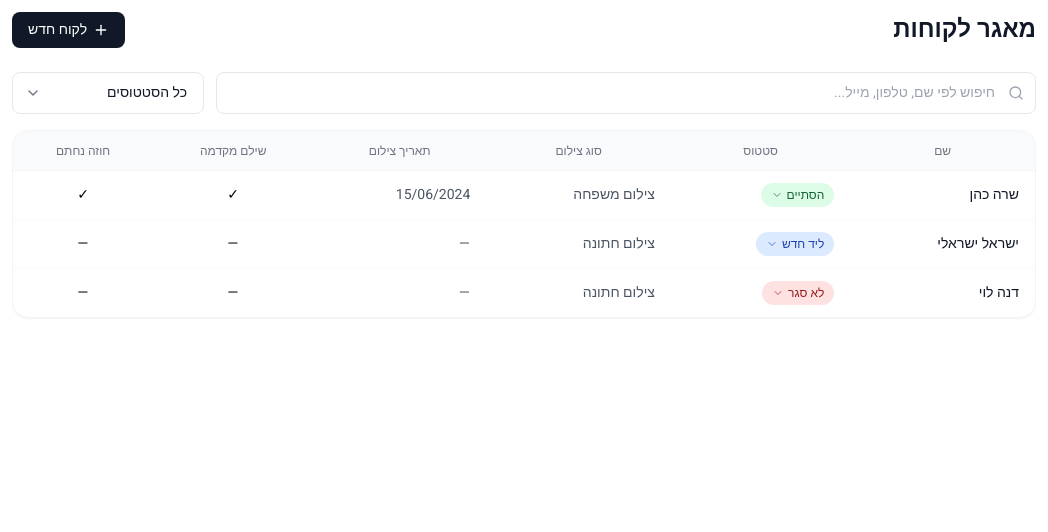
Test: ClientsDatabase › "in progress" filter hides done and didnt_book clients
This screenshot has width=1048, height=532.
Click the button "כל הסטטוסים" at (108, 93), box [12, 72, 204, 114]
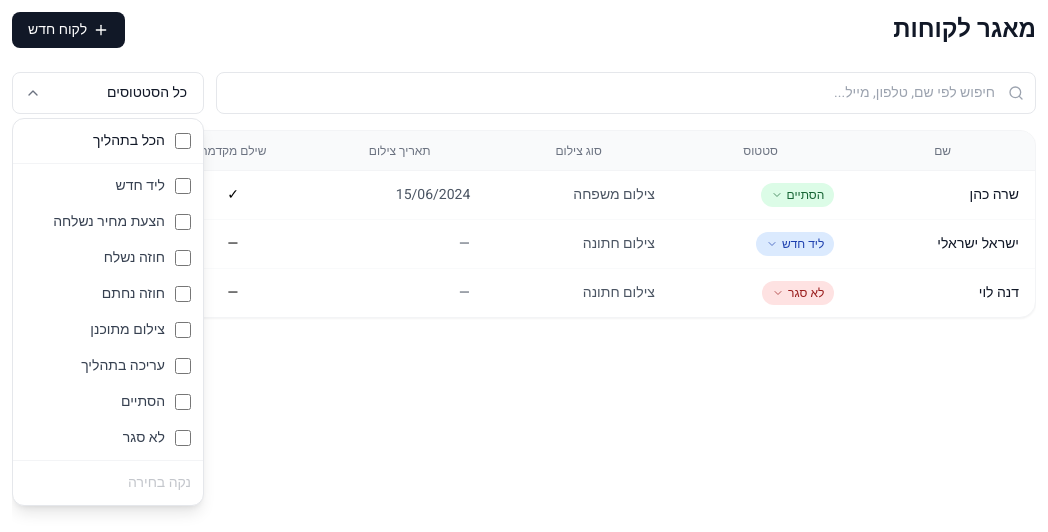
Click the option "הכל בתהליך" at (142, 140), box [93, 130, 191, 151]
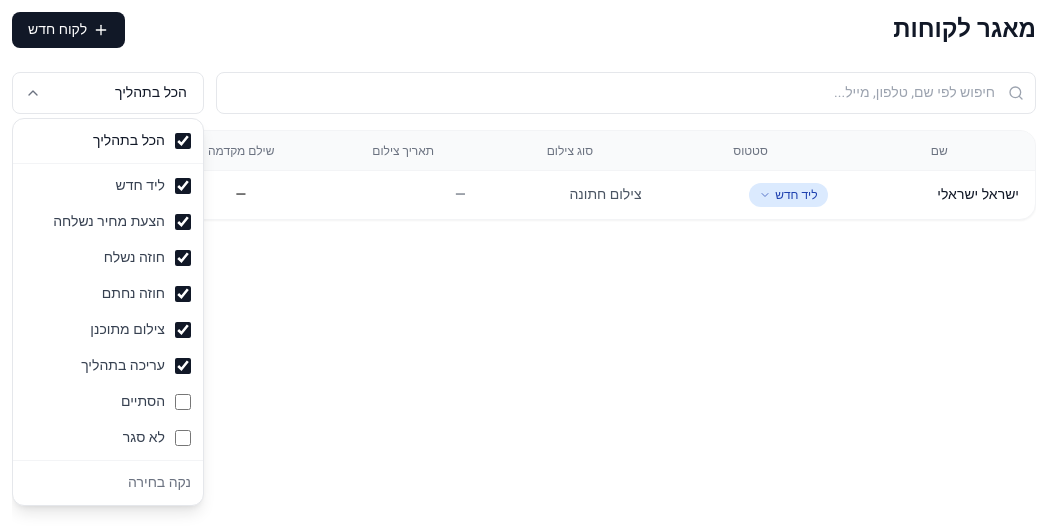
Check: the checkbox labelled "הסתיים" is not checked, box [175, 394, 191, 410]
Check: the checkbox labelled "ליד חדש" is checked
Check: the checkbox labelled "עריכה בתהליך" is checked, box [175, 358, 191, 374]
# unticking one in-progress status leaves the group half-ticked
Click the checkbox labelled "ליד חדש" at (183, 186), box [175, 178, 191, 194]
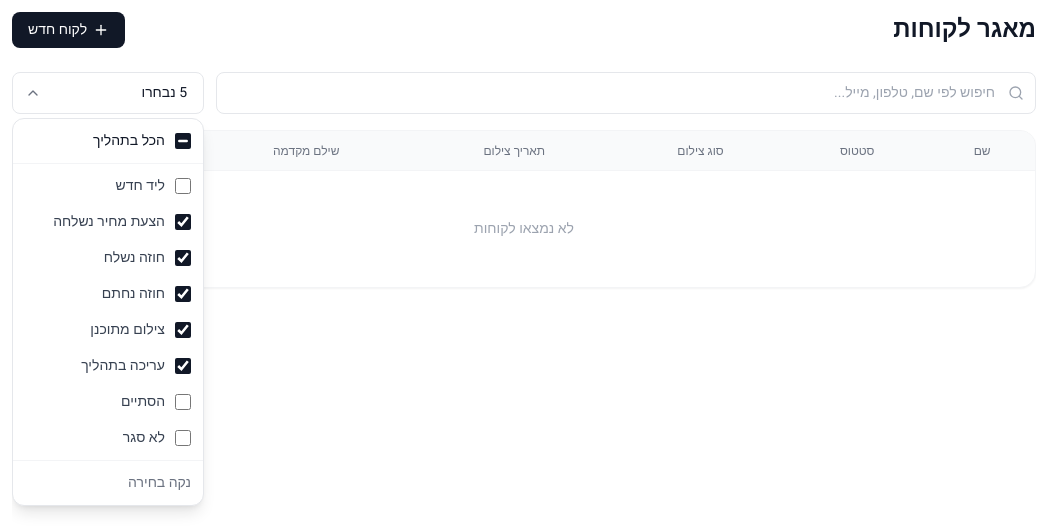
Check: the checkbox labelled "הכל בתהליך" is not checked
Click the checkbox labelled "הכל בתהליך" at (183, 141), box [175, 133, 191, 149]
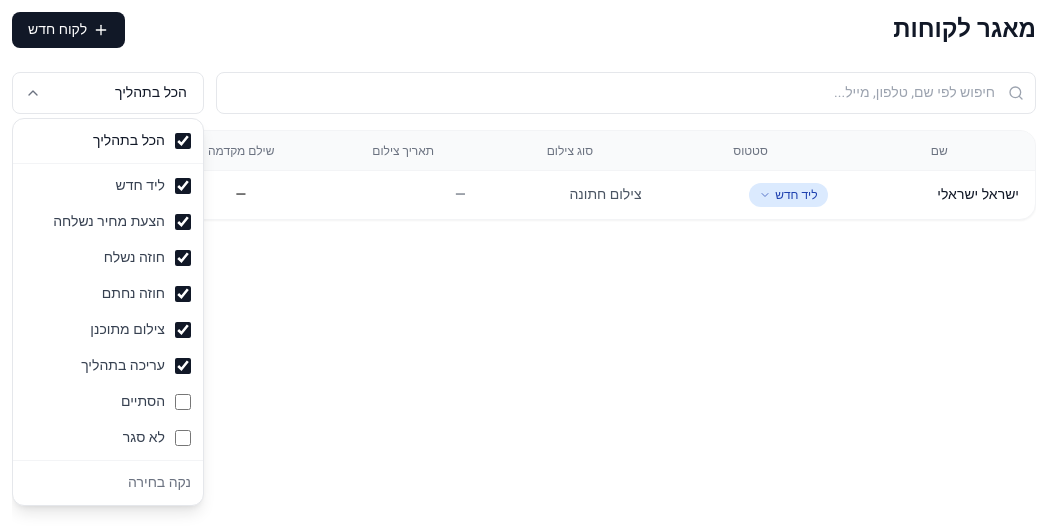
Check: the checkbox labelled "ליד חדש" is checked, box [175, 178, 191, 194]
Click the checkbox labelled "הכל בתהליך" at (183, 141), box [175, 133, 191, 149]
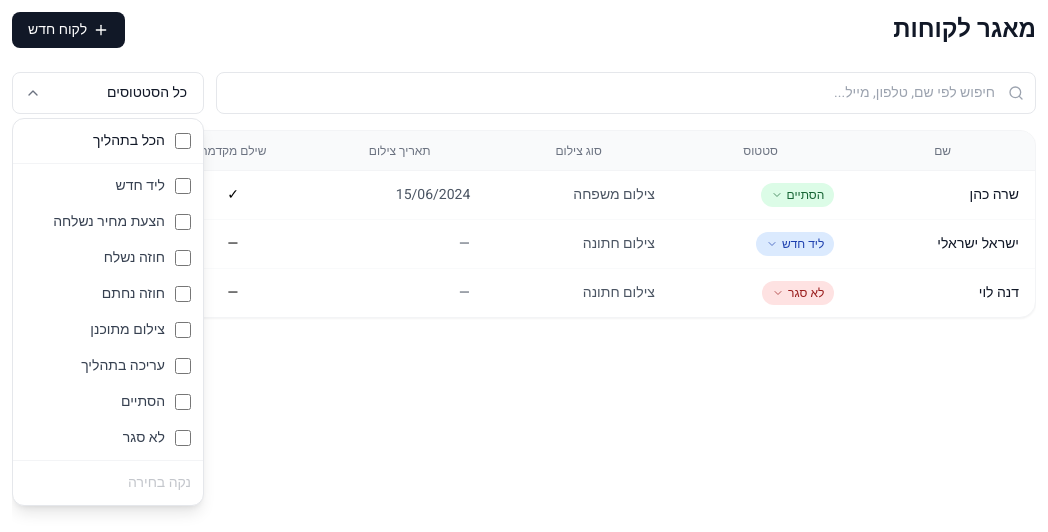
Check: the checkbox labelled "ליד חדש" is not checked, box [175, 178, 191, 194]
Check: the checkbox labelled "עריכה בתהליך" is not checked, box [175, 358, 191, 374]
Click the checkbox labelled "הכל בתהליך" at (183, 141), box [175, 133, 191, 149]
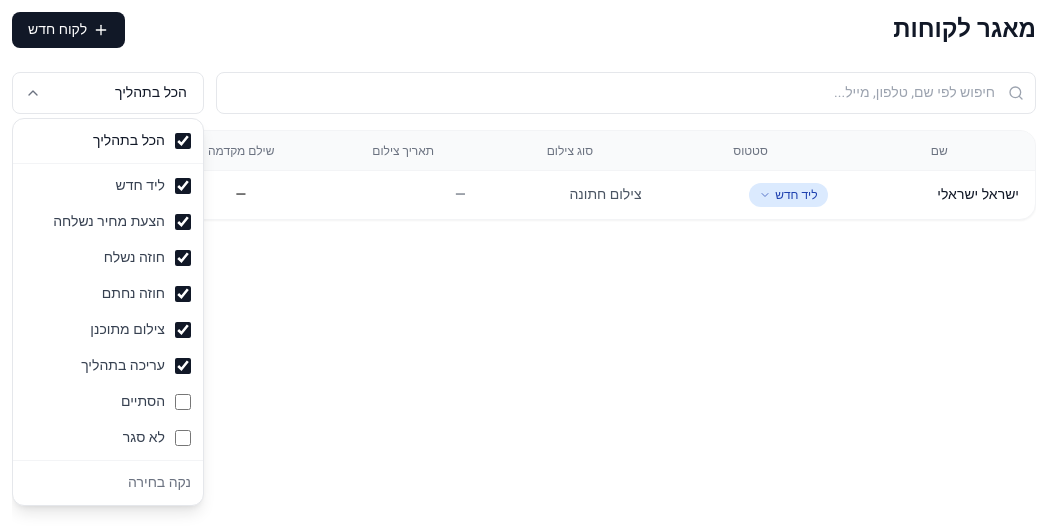
Check: the text "ישראל ישראלי" is shown, box [844, 171, 1035, 219]
Check: the text "שרה כהן" is gone
Check: the text "דנה לוי" is gone
